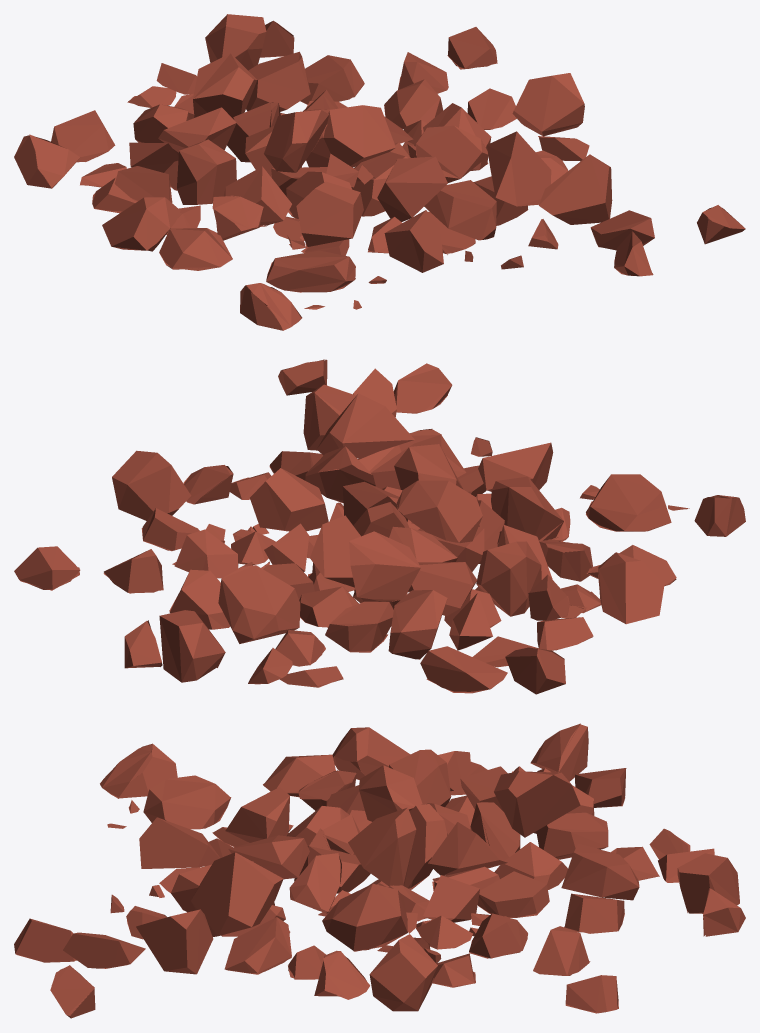
Rendered from Copper_Ore.glb.
The picture shows the model from 3 angles, top to bottom: view 1: azimuth 30°, elevation 25°; view 2: azimuth 150°, elevation 25°; view 3: azimuth 270°, elevation 25°; orthographic projection. The views are drawn at different scales.
Parts seen in each view (by area): view 1: Icosphere.006_cell.070; view 2: Icosphere.006_cell.070; view 3: Icosphere.006_cell.070.
Boxes of the visible parts, x1,y1,x2,y2 form: Icosphere.006_cell.070: (14, 14, 745, 330); Icosphere.006_cell.070: (14, 359, 745, 694); Icosphere.006_cell.070: (14, 723, 745, 1018).
Bounding box in the file's own units: 1.6 × 0.2828 × 1.9.
